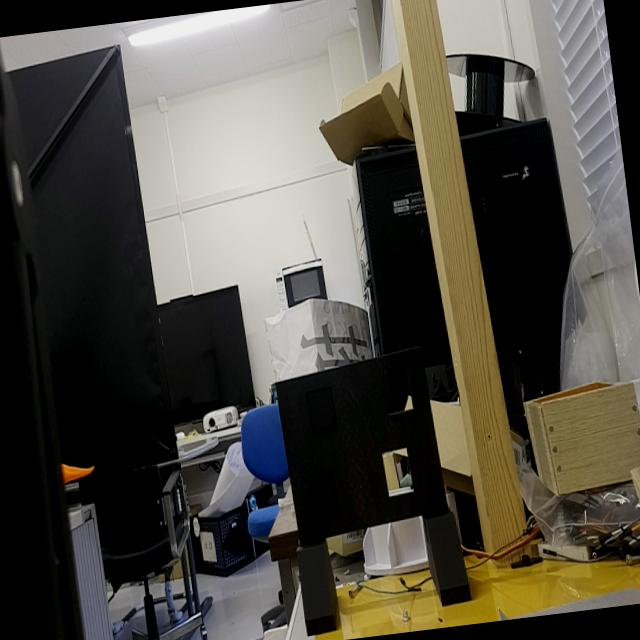Obstacle: (380, 447, 414, 495), (386, 370, 412, 409)
Wall: (275, 346, 446, 544)
